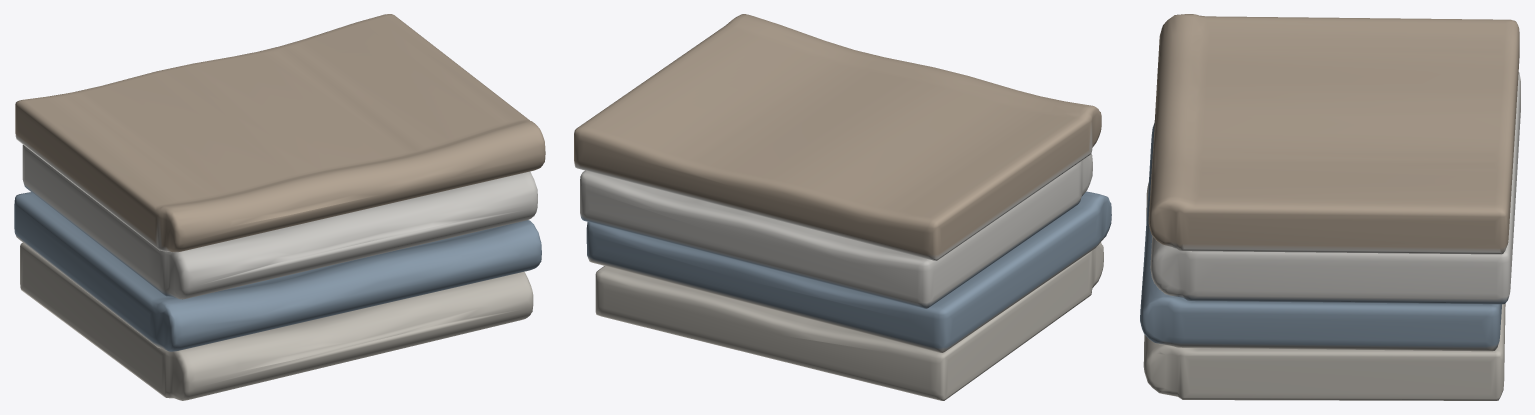
Rendered from fold-balanced-b6de2df97a.glb.
3 renders of one model, left to right at view 1: azimuth 30°, elevation 25°; view 2: azimuth 150°, elevation 25°; view 3: azimuth 270°, elevation 25°, orthographic. The views are drawn at different scales.
Visible parts, largest first — view 1: fold; view 2: fold; view 3: fold.
Part boxes in pixels (x1=…): fold: x1=14, y1=14, x2=545, y2=400; fold: x1=574, y1=14, x2=1111, y2=400; fold: x1=1140, y1=14, x2=1520, y2=400.
Bounding box in the file's own units: 0.3046 × 0.1444 × 0.2426.
